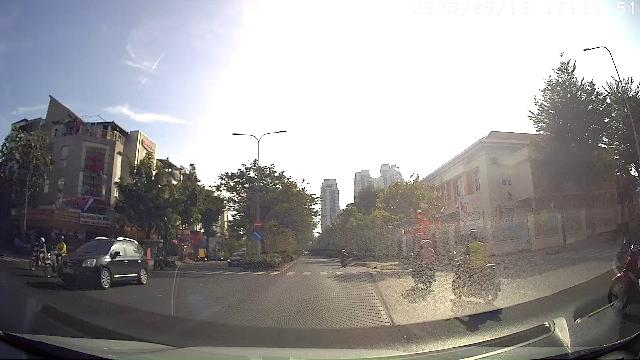102-cam-di-nguoc-chieu: (253, 220, 263, 230)
302a-huong-phai-di-vong-chuong-ngai-vat-1: (253, 230, 263, 240)
